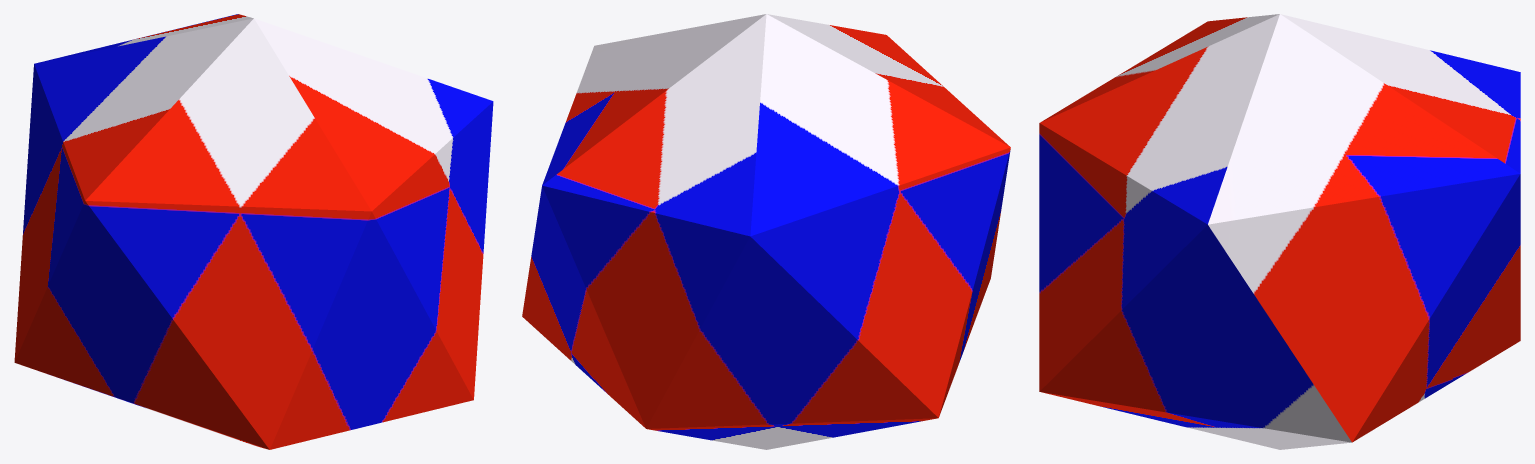
File: IcosahedronRough2.fbx
The picture shows the model from 3 angles, left to right: view 1: azimuth 30°, elevation 25°; view 2: azimuth 150°, elevation 25°; view 3: azimuth 270°, elevation 25°; orthographic projection. The views are drawn at different scales.
Parts seen in each view (by area): view 1: IcosahedronRough; view 2: IcosahedronRough; view 3: IcosahedronRough.
Boxes of the visible parts, x1,y1,x2,y2 form: IcosahedronRough: [14, 14, 493, 449]; IcosahedronRough: [522, 14, 1010, 449]; IcosahedronRough: [1039, 14, 1520, 449].
Size of the model in its own units: 1 by 1 by 1.
